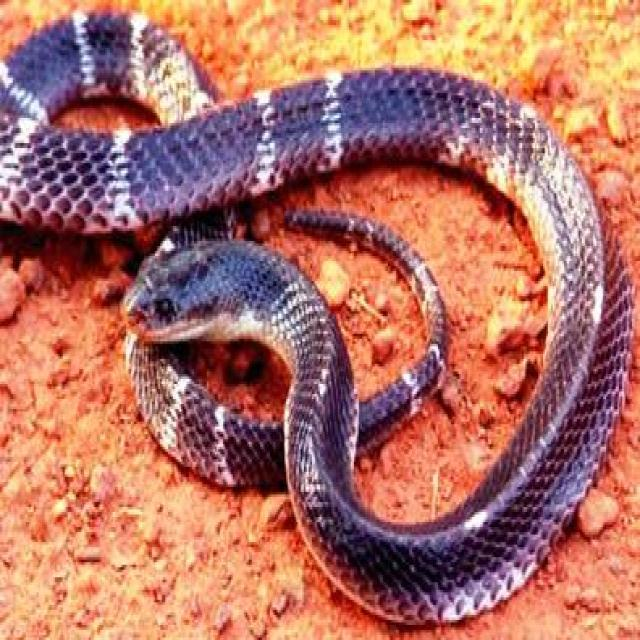Snake: (0, 2, 634, 625)
